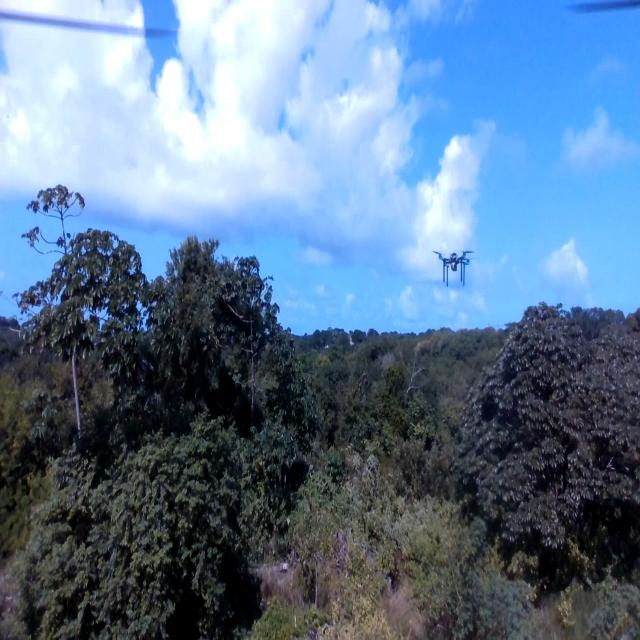-uav-: (426, 232, 478, 294)
